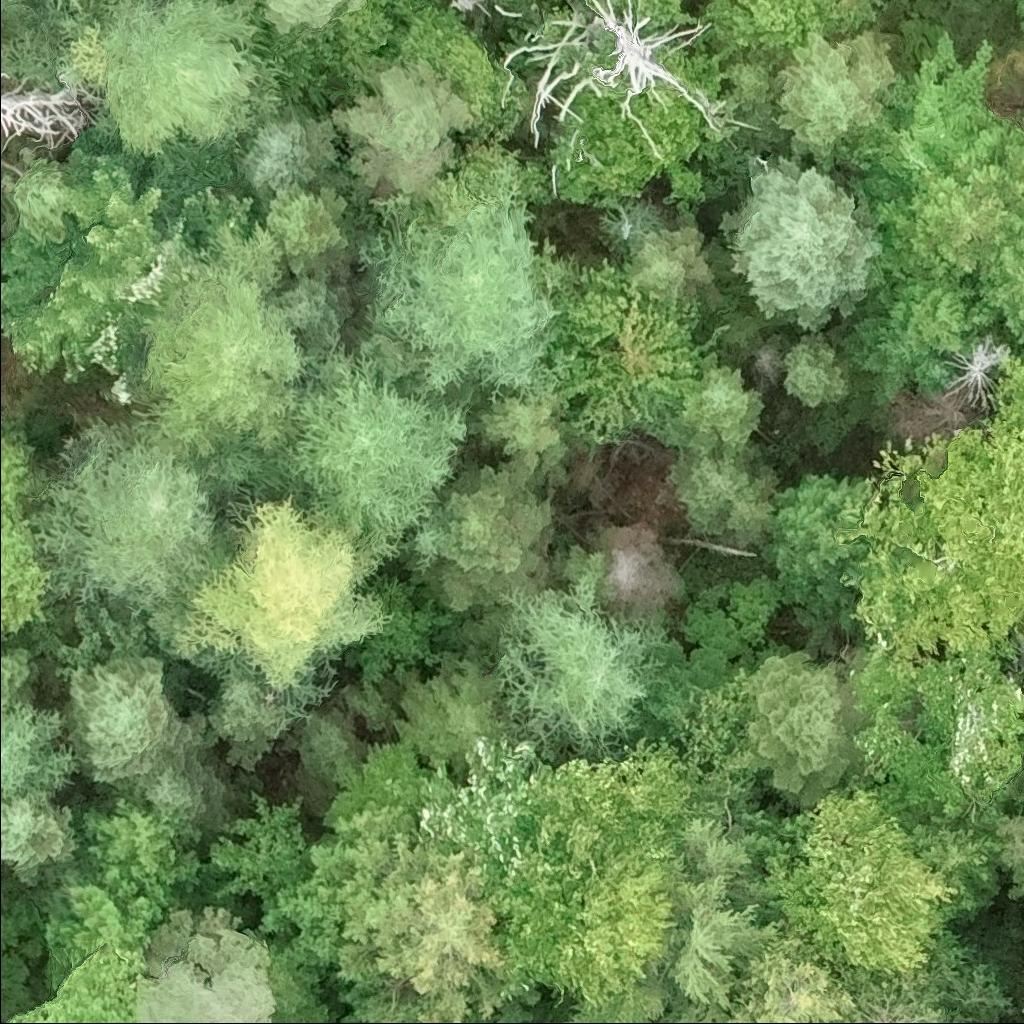crown: (815, 366, 1023, 670), (145, 476, 406, 717), (489, 739, 693, 1005), (363, 155, 569, 413), (559, 801, 791, 1023), (139, 222, 315, 481), (287, 825, 505, 1023), (761, 785, 963, 988), (844, 604, 1023, 822), (23, 418, 219, 611), (492, 551, 667, 767), (286, 342, 467, 536), (524, 268, 711, 449), (391, 728, 555, 911), (95, 0, 283, 159), (0, 185, 158, 371), (506, 0, 716, 139), (724, 162, 885, 332), (866, 128, 1023, 273), (739, 641, 862, 816), (54, 655, 209, 788), (548, 83, 705, 209), (332, 54, 471, 194), (433, 469, 552, 614), (839, 928, 1019, 1023), (782, 27, 899, 172), (135, 905, 277, 1023), (761, 474, 870, 623), (392, 644, 506, 778), (717, 933, 862, 1023), (0, 408, 54, 639), (101, 744, 239, 830), (9, 939, 148, 1023), (668, 450, 786, 548), (611, 215, 715, 313), (641, 372, 763, 454), (280, 705, 369, 814), (197, 677, 298, 773), (860, 316, 954, 409), (0, 697, 84, 801), (709, 0, 888, 47), (0, 789, 79, 891), (267, 184, 351, 272), (242, 120, 341, 194), (480, 395, 559, 475), (279, 269, 348, 359), (973, 231, 1023, 340), (785, 335, 848, 410), (0, 89, 88, 138), (949, 339, 1001, 406), (267, 0, 366, 31), (0, 644, 45, 702), (623, 0, 681, 16), (991, 0, 1023, 13), (327, 1017, 335, 1023), (1020, 1009, 1023, 1017)
